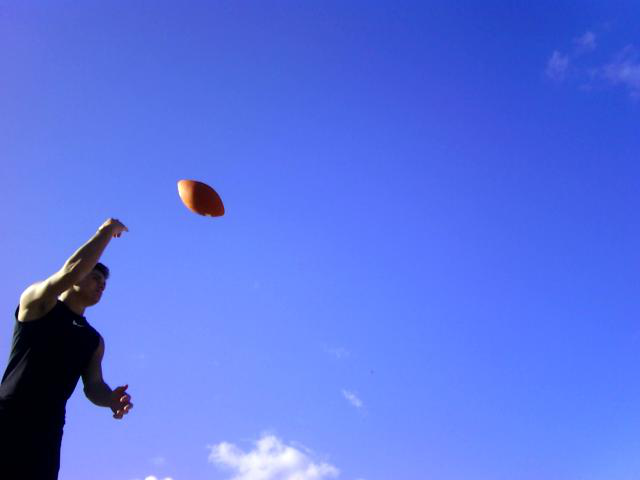football: (173, 176, 230, 221)
